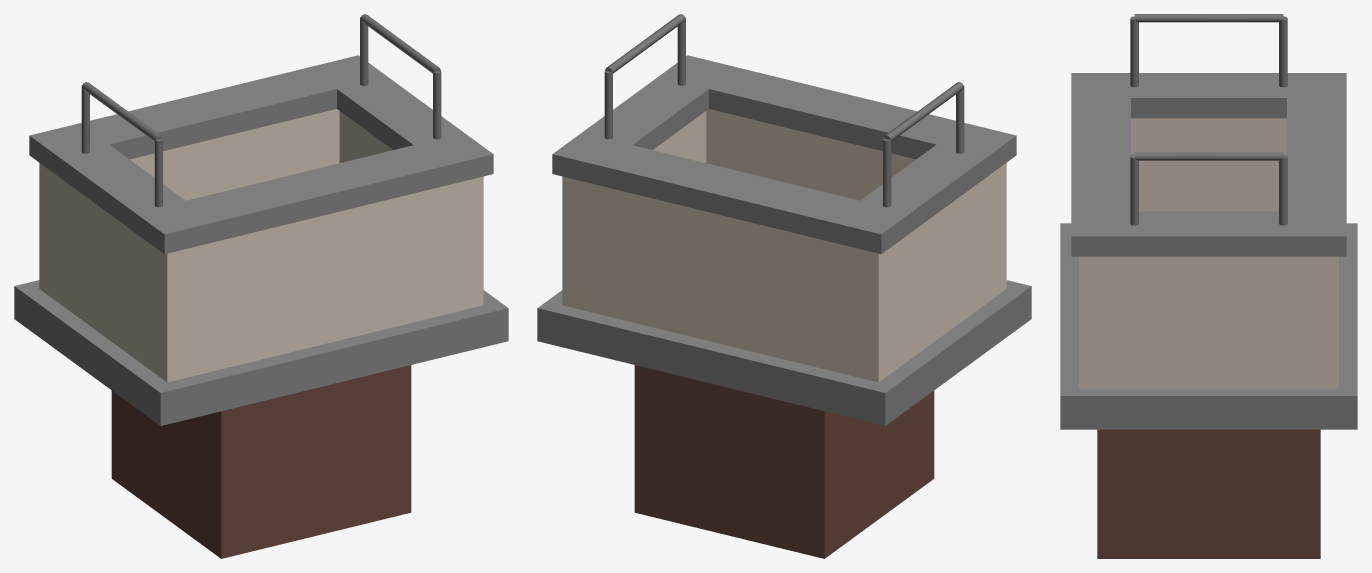
The model's file is barbecue.glb.
3 views of the same model, side by side, from view 1: azimuth 30°, elevation 25°; view 2: azimuth 150°, elevation 25°; view 3: azimuth 270°, elevation 25° (orthographic).
Size of the model in its own units: 1.1 by 1.27 by 0.8.
